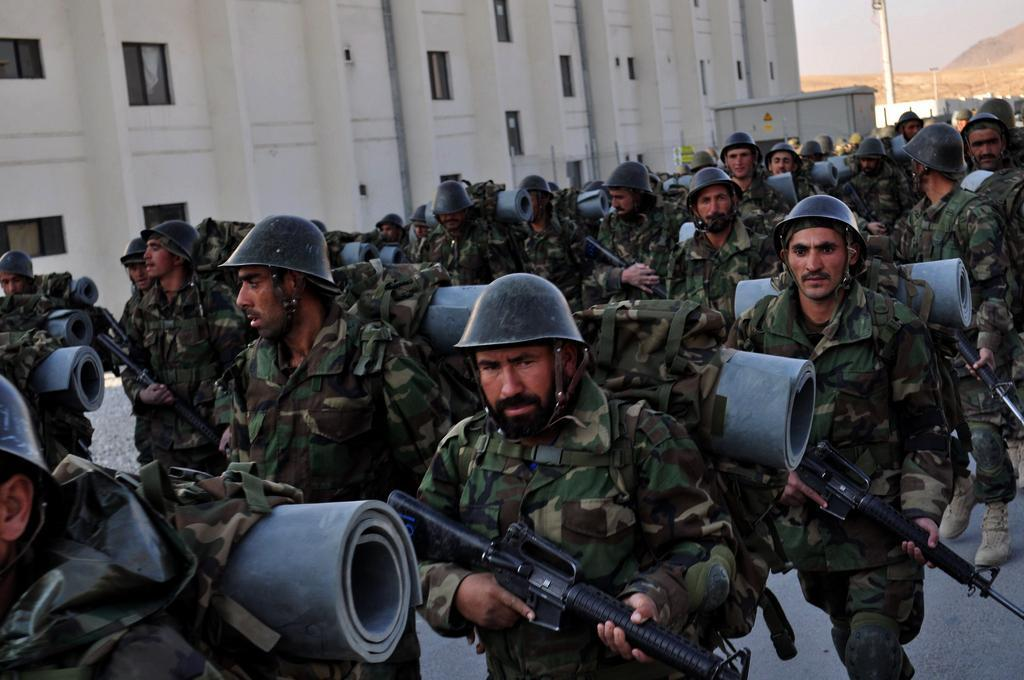gun: (398, 494, 746, 680), (793, 454, 1024, 618), (96, 338, 226, 455)
